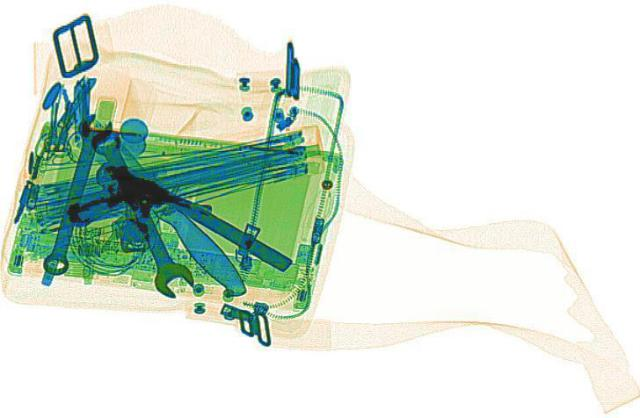Gun: (44, 156, 222, 256)
Knife: (76, 111, 252, 295)
Wrench: (79, 124, 199, 298), (32, 109, 118, 273)
